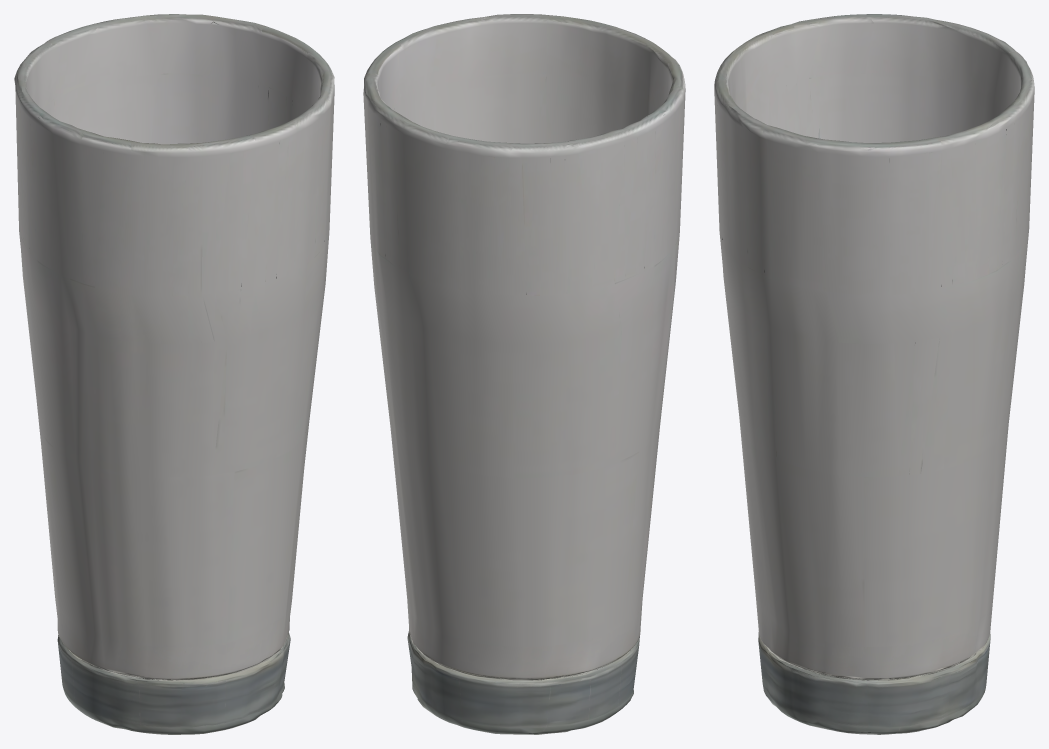
Rendered from desktop.glb.
3 renders of one model, left to right at view 1: azimuth 30°, elevation 25°; view 2: azimuth 150°, elevation 25°; view 3: azimuth 270°, elevation 25°, orthographic.
Visible parts, largest first — view 1: pintglass; view 2: pintglass; view 3: pintglass.
Part boxes in pixels (x1,y1,x2,y2): pintglass: [14, 14, 334, 734]; pintglass: [363, 14, 685, 734]; pintglass: [714, 14, 1034, 734].
Bounding box in the file's own units: 0.0713 × 0.1501 × 0.0713.
1 material, 1 textured.
